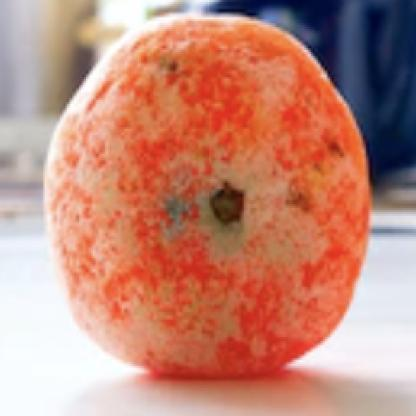rotten: (46, 14, 368, 381)
